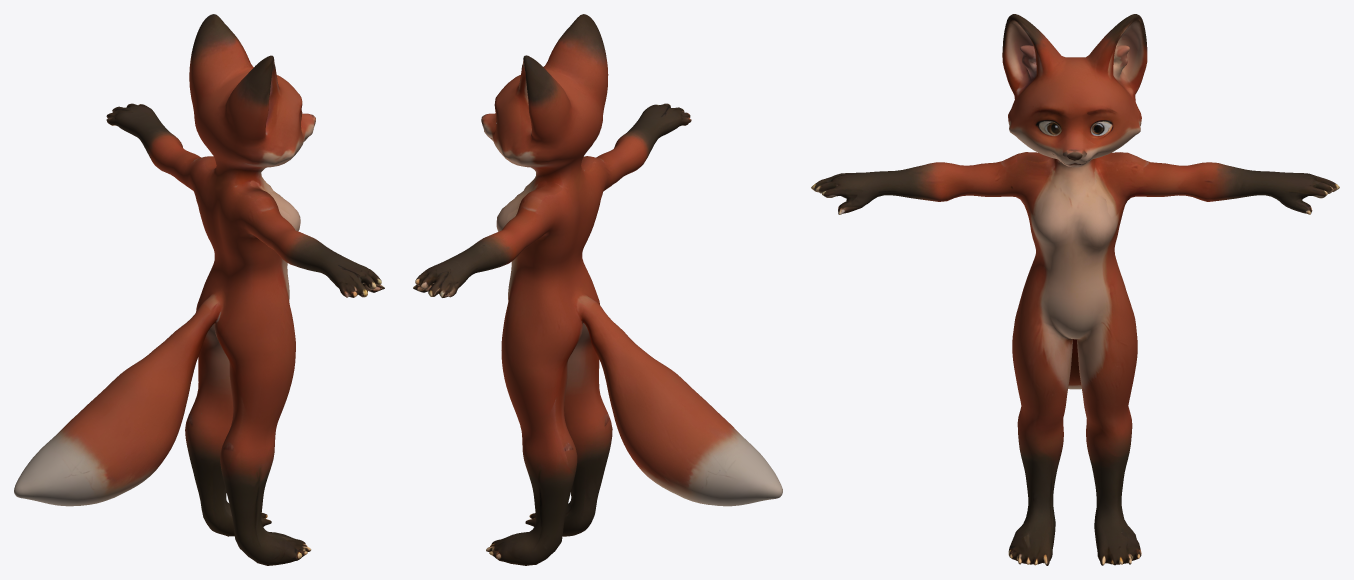
Rendered from tripo_convert_9d0d65ed-97e2-48eb-9910-08c6ffff2907.fbx.
3 views of the same model, side by side, from view 1: azimuth 30°, elevation 25°; view 2: azimuth 150°, elevation 25°; view 3: azimuth 270°, elevation 25° (orthographic). The views are drawn at different scales.
Parts seen in each view (by area): view 1: tripo_node_9d0d65ed; view 2: tripo_node_9d0d65ed; view 3: tripo_node_9d0d65ed.
Part boxes in pixels (x1,y1,x2,y2): tripo_node_9d0d65ed: (14, 14, 384, 565); tripo_node_9d0d65ed: (413, 14, 782, 565); tripo_node_9d0d65ed: (811, 14, 1339, 565).
Bounding box in the file's own units: 0.6114 × 0.9996 × 0.8945.
1 material, 1 textured.
